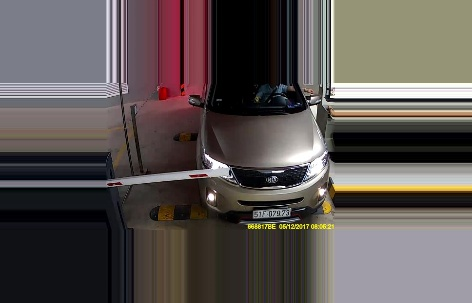plate: (250, 203, 292, 221)
